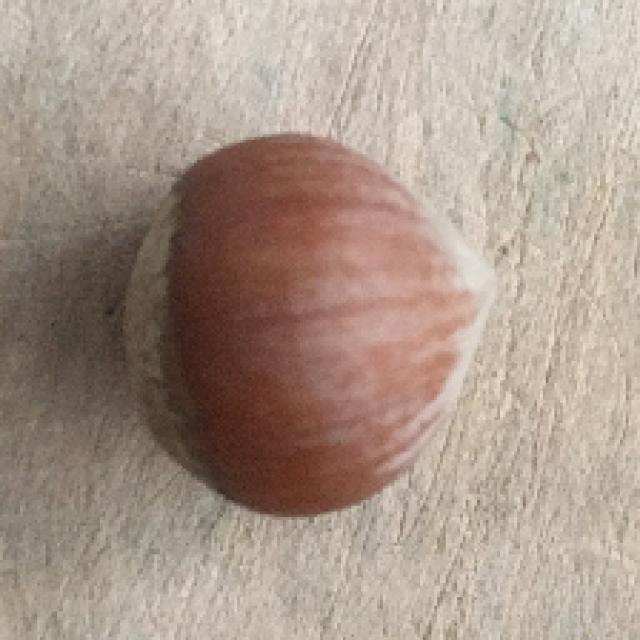qualityHazelnut: (110, 121, 507, 529)
